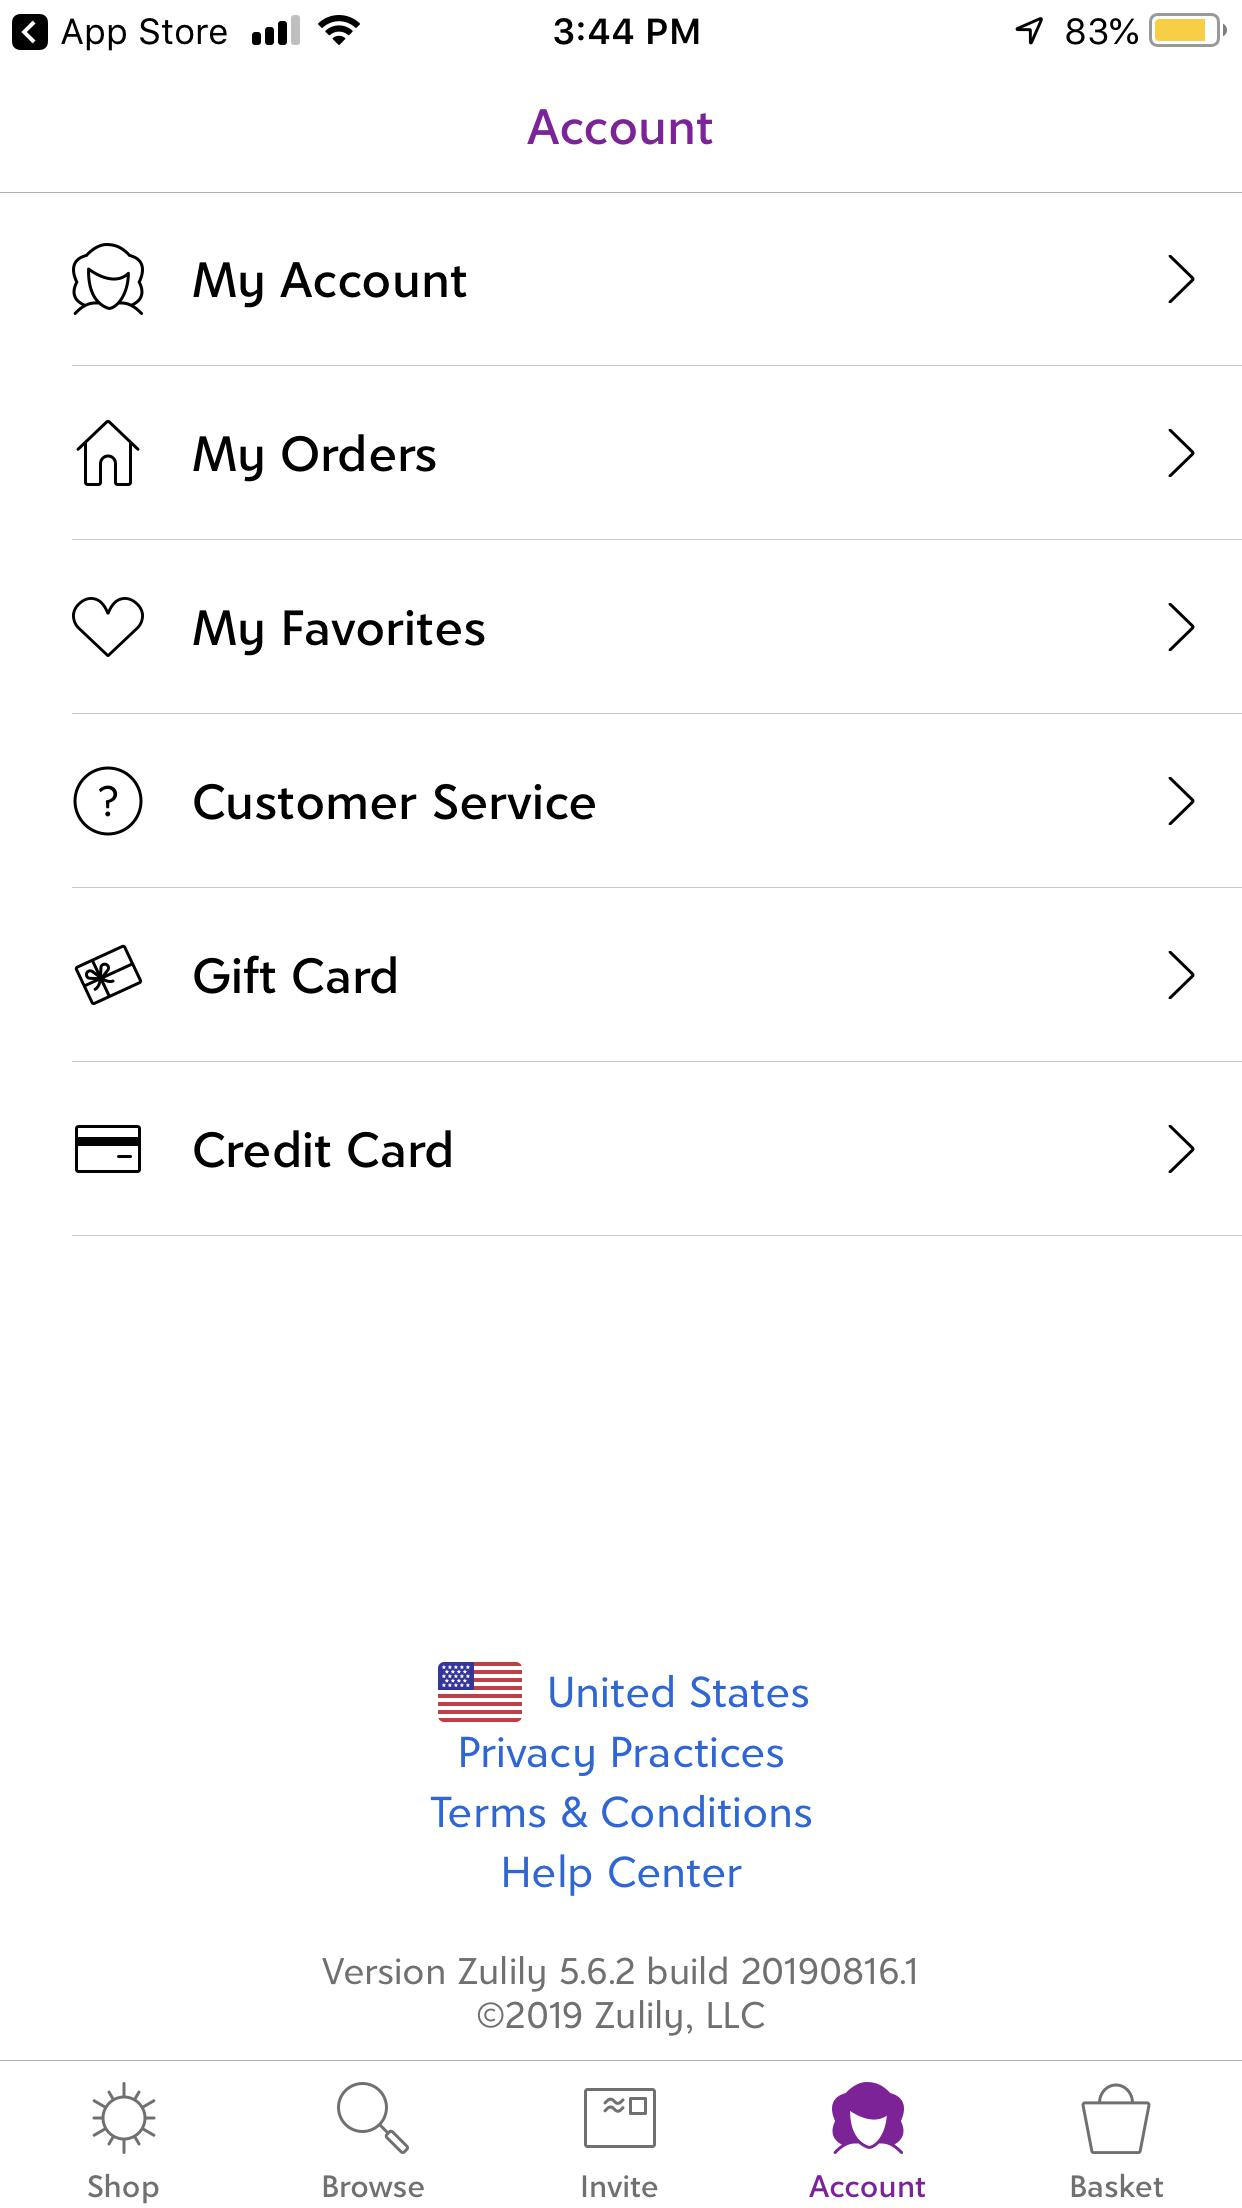Icon: (337, 2081, 409, 2156), (71, 764, 146, 837), (1081, 2084, 1151, 2156), (71, 593, 146, 657), (74, 419, 140, 488), (584, 2087, 657, 2149), (73, 943, 146, 1005), (74, 1124, 143, 1175), (1166, 253, 1197, 305), (1166, 601, 1197, 652), (1166, 776, 1197, 828), (1168, 428, 1197, 479), (1168, 1124, 1197, 1175), (1168, 951, 1197, 1001)
Image: (68, 240, 146, 320), (437, 1661, 526, 1724), (831, 2081, 905, 2156), (93, 2081, 161, 2153)
Text: (428, 1733, 811, 1896), (318, 1953, 916, 2037), (194, 783, 597, 822), (193, 610, 485, 658), (193, 261, 469, 309), (193, 434, 438, 484), (193, 1128, 453, 1171), (549, 1674, 810, 1711), (193, 954, 397, 996), (528, 108, 713, 149), (808, 2175, 927, 2199), (323, 2173, 425, 2199), (86, 2172, 161, 2206), (1071, 2173, 1165, 2199), (581, 2173, 658, 2199)
UpperTaskBar: (2, 2, 1242, 53)
